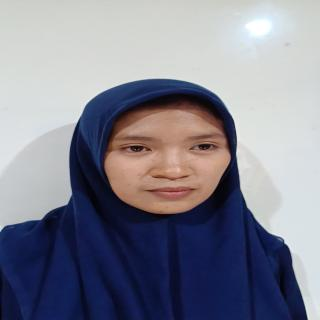Netral: (97, 96, 237, 221)
